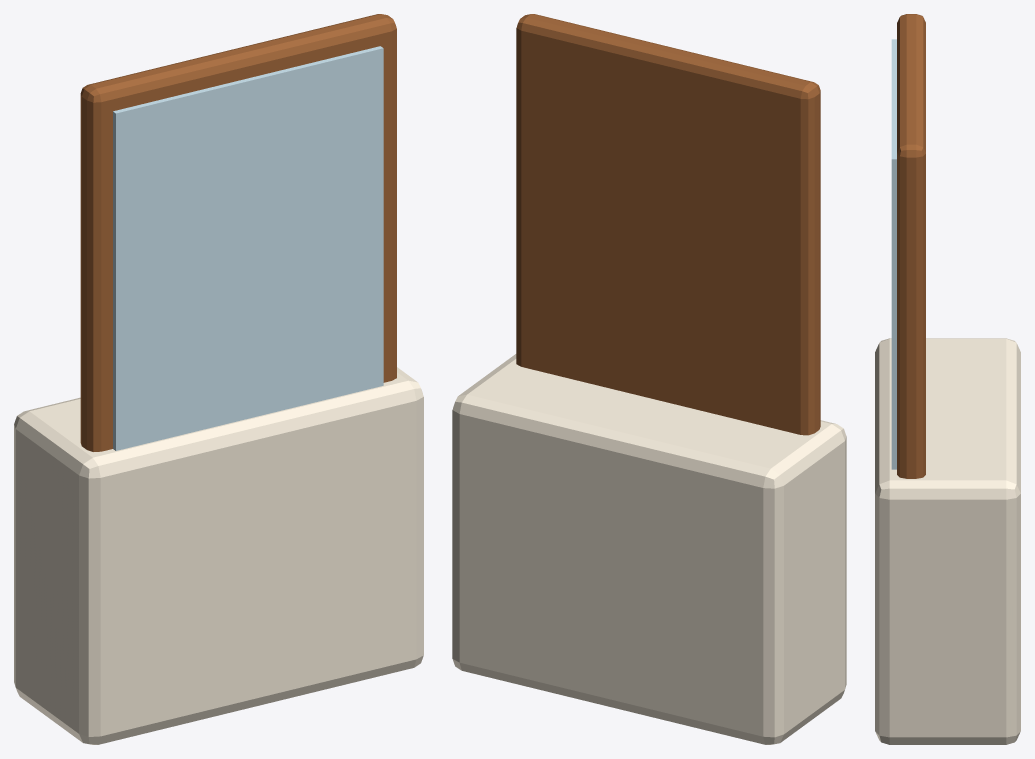
The model's file is int_cermin.fbx.
3 renders of one model, left to right at view 1: azimuth 30°, elevation 25°; view 2: azimuth 150°, elevation 25°; view 3: azimuth 270°, elevation 25°, orthographic. The views are drawn at different scales.
Parts seen in each view (by area): view 1: int_cermin; view 2: int_cermin; view 3: int_cermin.
Boxes of the visible parts, <box> form: int_cermin: <box>14,14,423,744</box>; int_cermin: <box>452,14,846,744</box>; int_cermin: <box>875,14,1020,744</box>.
Bounding box in the file's own units: 100 × 180 × 40.
1 material, 1 textured.
